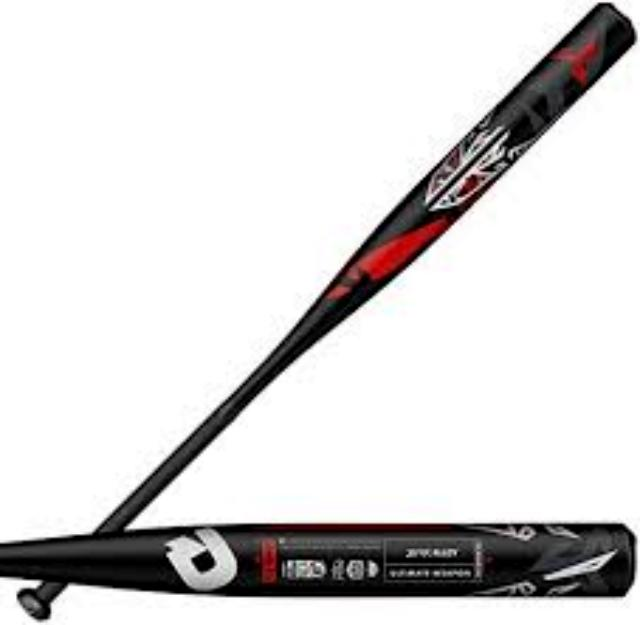baseball bat: (18, 0, 636, 616), (0, 522, 640, 596)
